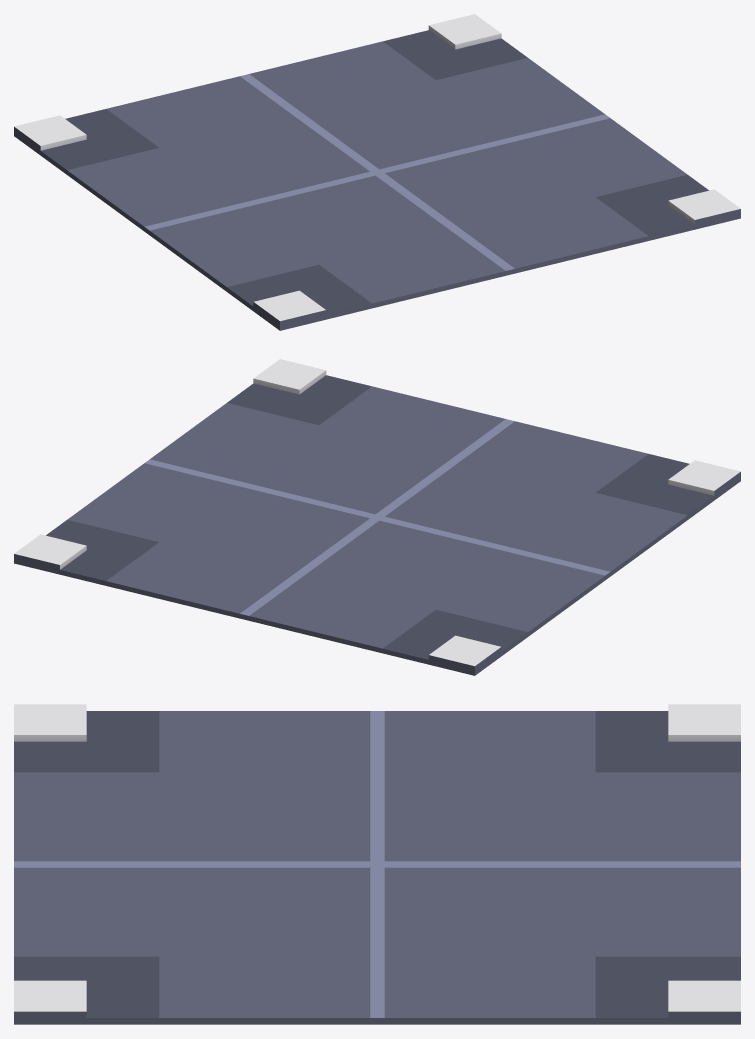
The model's file is road-crossroad-line.glb.
3 renders of one model, top to bottom at view 1: azimuth 30°, elevation 25°; view 2: azimuth 150°, elevation 25°; view 3: azimuth 270°, elevation 25°, orthographic. The views are drawn at different scales.
Visible parts, largest first — view 1: road-crossroad-line; view 2: road-crossroad-line; view 3: road-crossroad-line.
Part boxes in pixels (x1,y1,x2,y2): road-crossroad-line: [14, 14, 740, 330]; road-crossroad-line: [14, 359, 740, 675]; road-crossroad-line: [14, 704, 740, 1024].
Size of the model in its own units: 1 by 0.02 by 1.
1 material, 1 textured.
